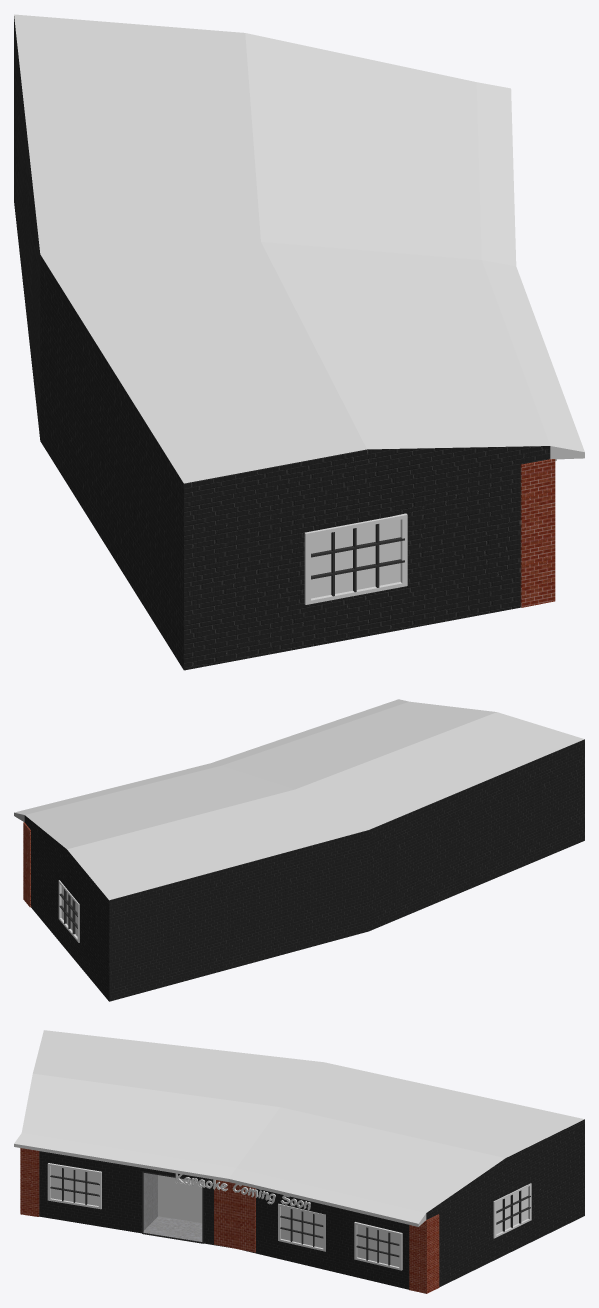
The model's file is Karaoke 11.fbx.
The picture shows the model from 3 angles, top to bottom: view 1: azimuth 30°, elevation 25°; view 2: azimuth 150°, elevation 25°; view 3: azimuth 270°, elevation 25°; orthographic projection. The views are drawn at different scales.
Parts seen in each view (by area): view 1: Cube.017, Cube, Cube.005, Cube.021, Cube.006; view 2: Cube, Cube.017, Cube.005, Cube.018, Cube.007; view 3: Cube.017, Cube, Cube.005, Cube.008, Cube.007, Cube.011, Cube.014, Cube.018, Cube.006, Cube.004, Cube.002, Cube.009 (+8 smaller).
Boxes of the visible parts, <box> form: Cube.017: <box>14,14,550,483</box>; Cube: <box>14,16,550,670</box>; Cube.005: <box>476,82,584,459</box>; Cube.021: <box>304,513,407,604</box>; Cube.006: <box>520,459,555,607</box>; Cube: <box>24,739,584,1001</box>; Cube.017: <box>25,701,584,900</box>; Cube.005: <box>14,699,408,822</box>; Cube.018: <box>58,880,79,942</box>; Cube.007: <box>23,822,31,907</box>; Cube.017: <box>21,1030,584,1212</box>; Cube: <box>39,1119,584,1289</box>; Cube.005: <box>14,1133,426,1226</box>; Cube.008: <box>214,1180,255,1252</box>; Cube.007: <box>409,1214,439,1293</box>; Cube.011: <box>158,1175,202,1222</box>; Cube.014: <box>143,1173,202,1241</box>; Cube.018: <box>493,1183,531,1238</box>; Cube.006: <box>20,1148,39,1216</box>; Cube.004: <box>51,1166,98,1205</box>; Cube.002: <box>357,1225,399,1266</box>; Cube.009: <box>281,1206,323,1248</box>.
Size of the model in its own units: 4290 by 1117 by 5951.
